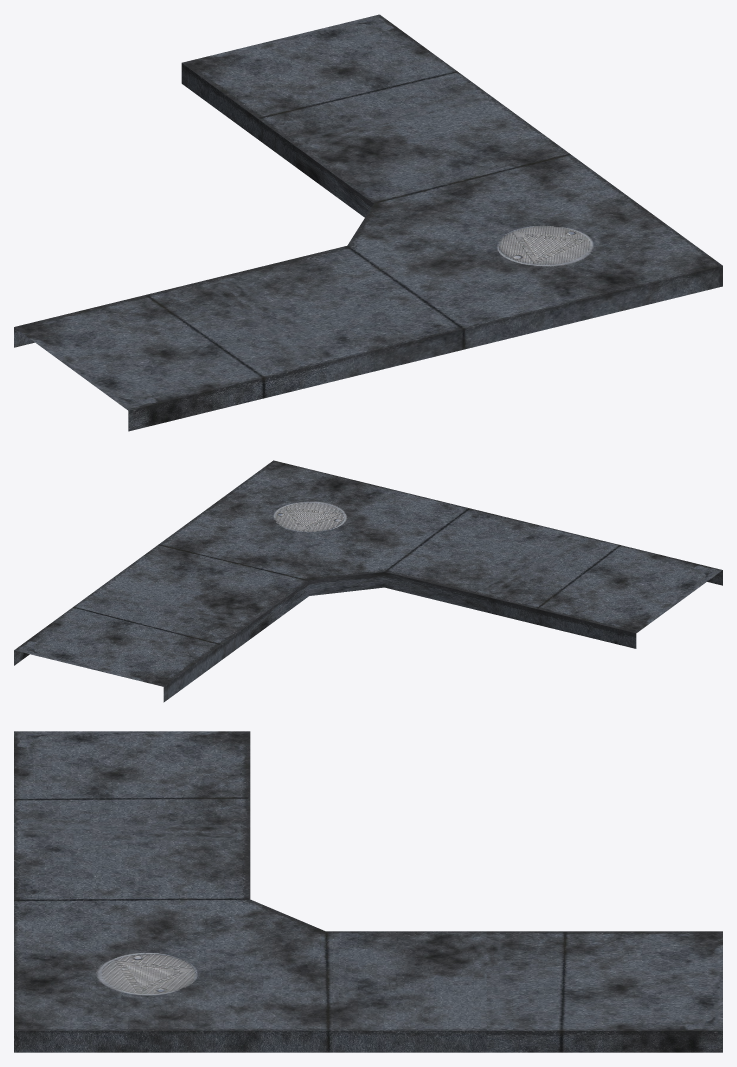
File: cross walk 4.fbx
3 views of the same model, one above another, from view 1: azimuth 30°, elevation 25°; view 2: azimuth 150°, elevation 25°; view 3: azimuth 270°, elevation 25° (orthographic). The views are drawn at different scales.
Parts seen in each view (by area): view 1: Cube.001, Plane.001, Plane; view 2: Cube.001, Plane.001, Plane; view 3: Cube.001, Plane, Plane.001.
Boxes of the visible parts, x1,y1,x2,y2 form: Cube.001: (212, 98, 722, 382); Plane.001: (14, 279, 326, 431); Plane: (181, 14, 493, 166); Cube.001: (101, 460, 572, 638); Plane.001: (486, 533, 722, 648); Plane: (14, 587, 250, 702); Cube.001: (14, 831, 486, 1052); Plane: (486, 931, 722, 1052); Plane.001: (14, 731, 250, 831).
Bounding box in the file's own units: 600 × 20 × 600.
